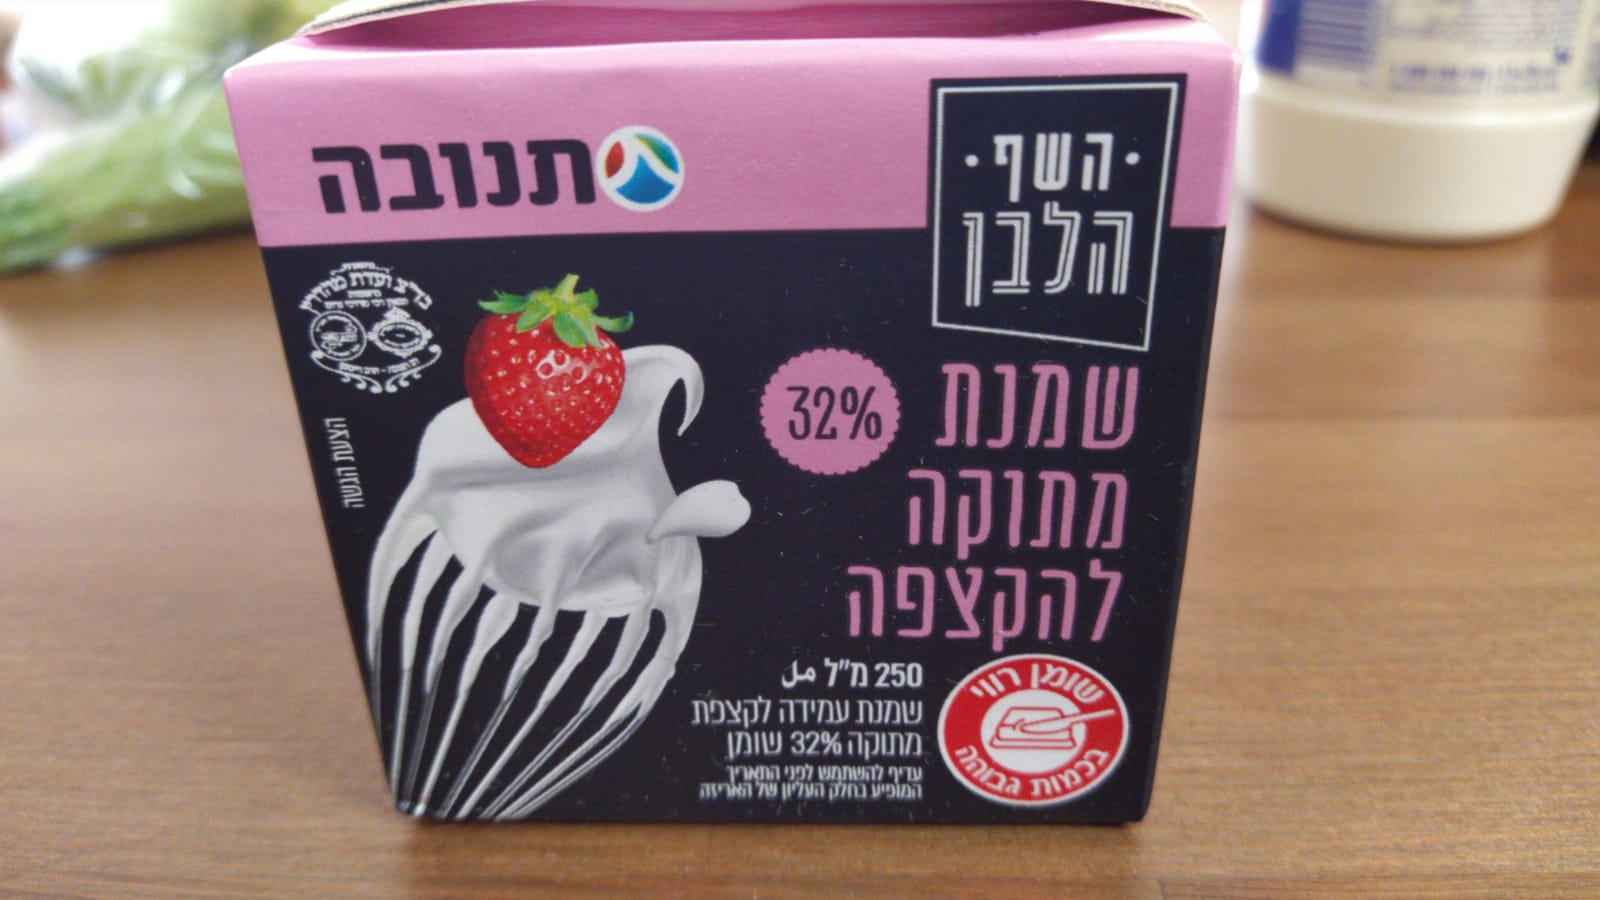fat: (938, 654, 1132, 812)
